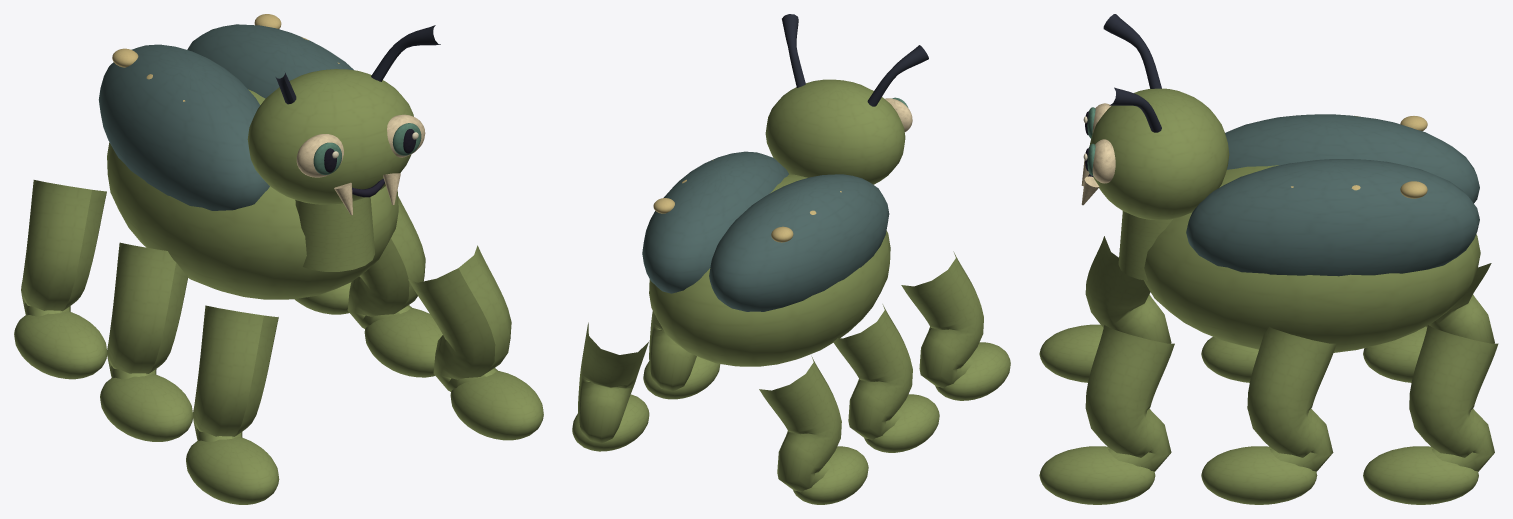
File: kipp.glb
The picture shows the model from 3 angles, left to right: view 1: azimuth 30°, elevation 25°; view 2: azimuth 150°, elevation 25°; view 3: azimuth 270°, elevation 25°; orthographic projection. The views are drawn at different scales.
Visible parts, largest first — view 1: Bent limb (×5), Wing case (×2), Foot (×6), Beetle belly, Cranium, Visible neck, Sclera (×2), Club antenna; view 2: Wing case (×2), Bent limb (×5), Beetle belly, Cranium, Foot (×5), Club antenna (×2); view 3: Wing case (×2), Bent limb (×5), Beetle belly, Foot (×6), Cranium, Visible neck, Club antenna (×2), Sclera.
Part boxes in pixels (<box>): Bent limb (×5): <box>21,180,511,442</box>; Wing case (×2): <box>98,24,353,210</box>; Foot (×6): <box>14,282,543,504</box>; Beetle belly: <box>107,89,398,299</box>; Cranium: <box>247,69,413,204</box>; Visible neck: <box>295,197,374,271</box>; Sclera (×2): <box>296,114,425,177</box>; Club antenna: <box>371,25,440,81</box>; Wing case (×2): <box>642,151,889,311</box>; Bent limb (×5): <box>578,251,983,492</box>; Beetle belly: <box>649,174,890,366</box>; Cranium: <box>765,79,905,184</box>; Foot (×5): <box>572,342,1010,504</box>; Club antenna (×2): <box>782,14,928,106</box>; Wing case (×2): <box>1186,114,1479,276</box>; Bent limb (×5): <box>1085,236,1498,471</box>; Beetle belly: <box>1144,165,1480,352</box>; Foot (×6): <box>1039,324,1478,504</box>; Cranium: <box>1089,88,1229,220</box>; Visible neck: <box>1118,211,1172,280</box>; Club antenna (×2): <box>1103,14,1161,132</box>; Sclera: <box>1092,139,1115,183</box>.
Size of the model in its own units: 1.04 by 1.22 by 1.31.
9 materials, 9 textured.
